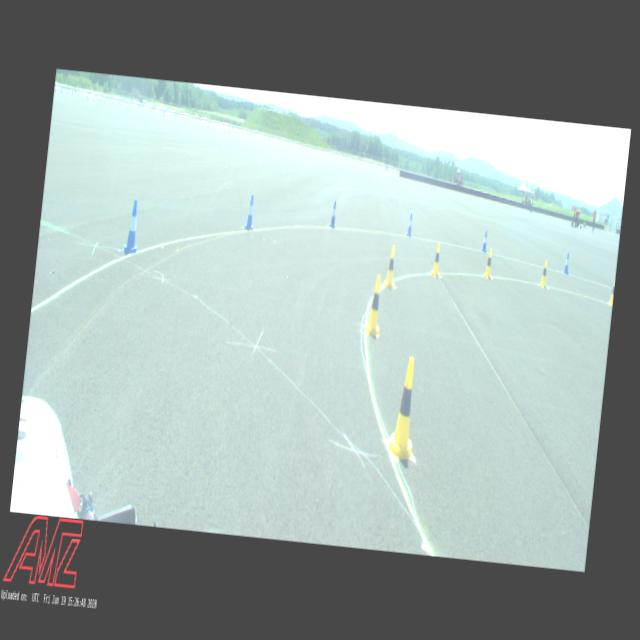blue_cone: (122, 201, 142, 252), (243, 192, 256, 230), (328, 200, 338, 228), (562, 252, 570, 274), (481, 230, 488, 252), (406, 213, 412, 236)
yellow_cone: (386, 354, 422, 459), (364, 274, 385, 338), (382, 244, 398, 289), (430, 242, 442, 278), (483, 248, 494, 278), (538, 258, 549, 287), (608, 278, 614, 305)
